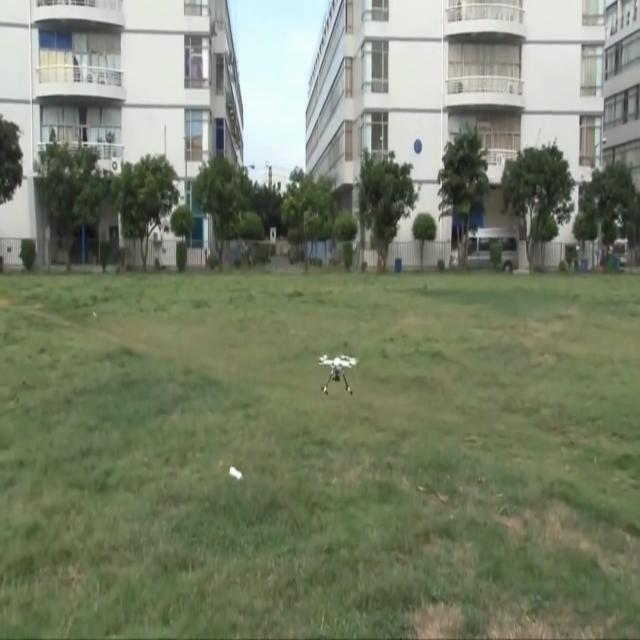drone: (318, 352, 357, 396)
